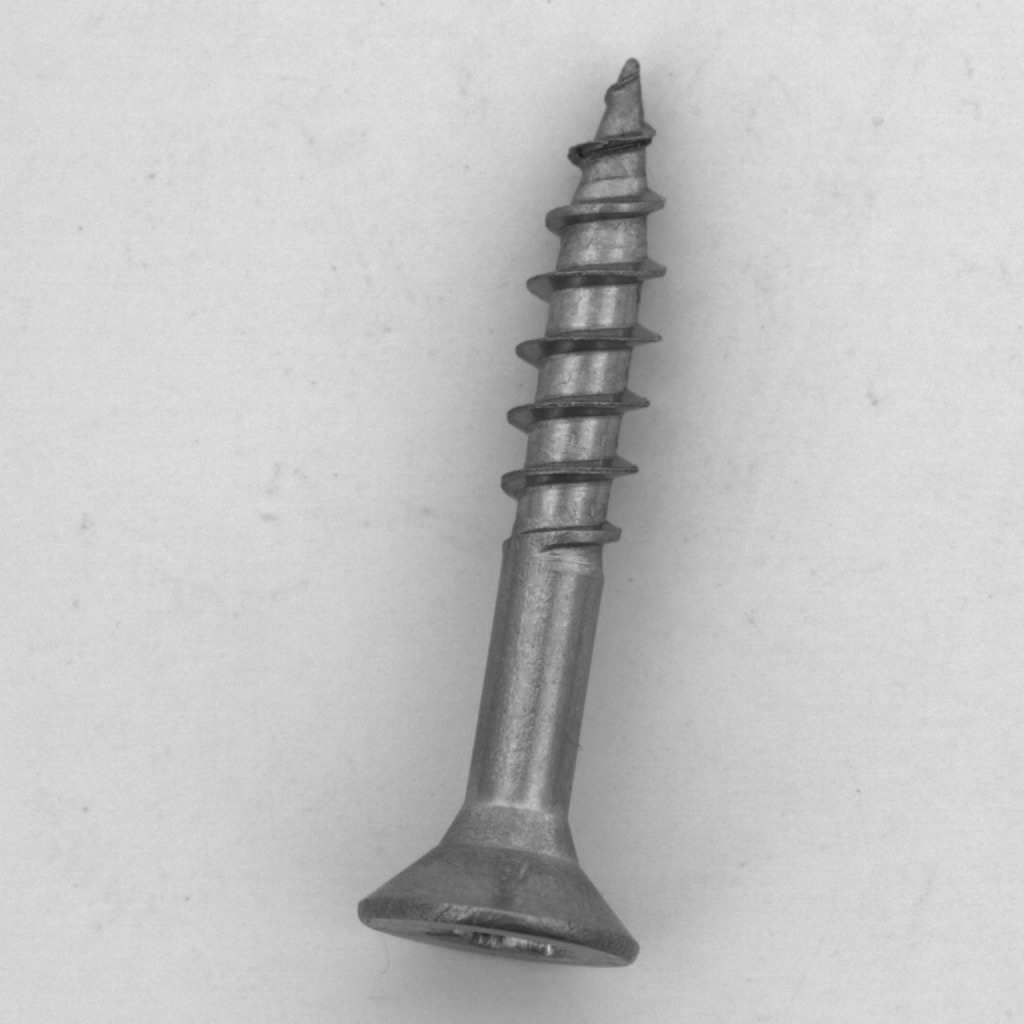good: (343, 41, 685, 994)
